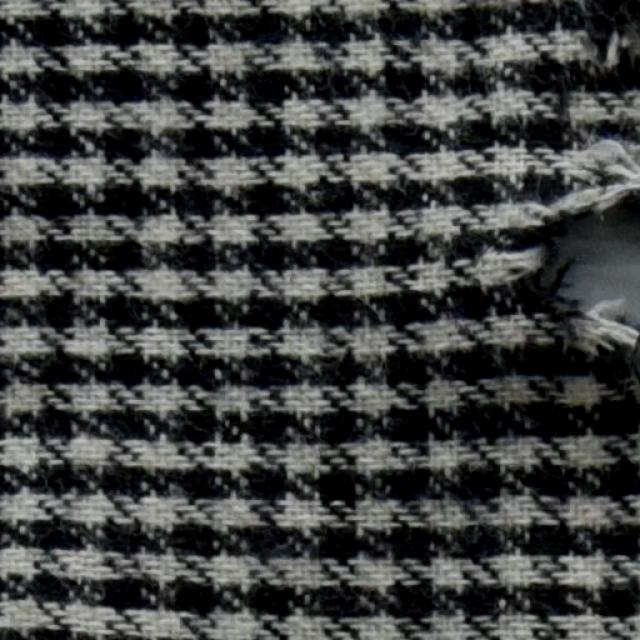Hole: (549, 210, 639, 328)
Snag: (546, 138, 639, 212)
